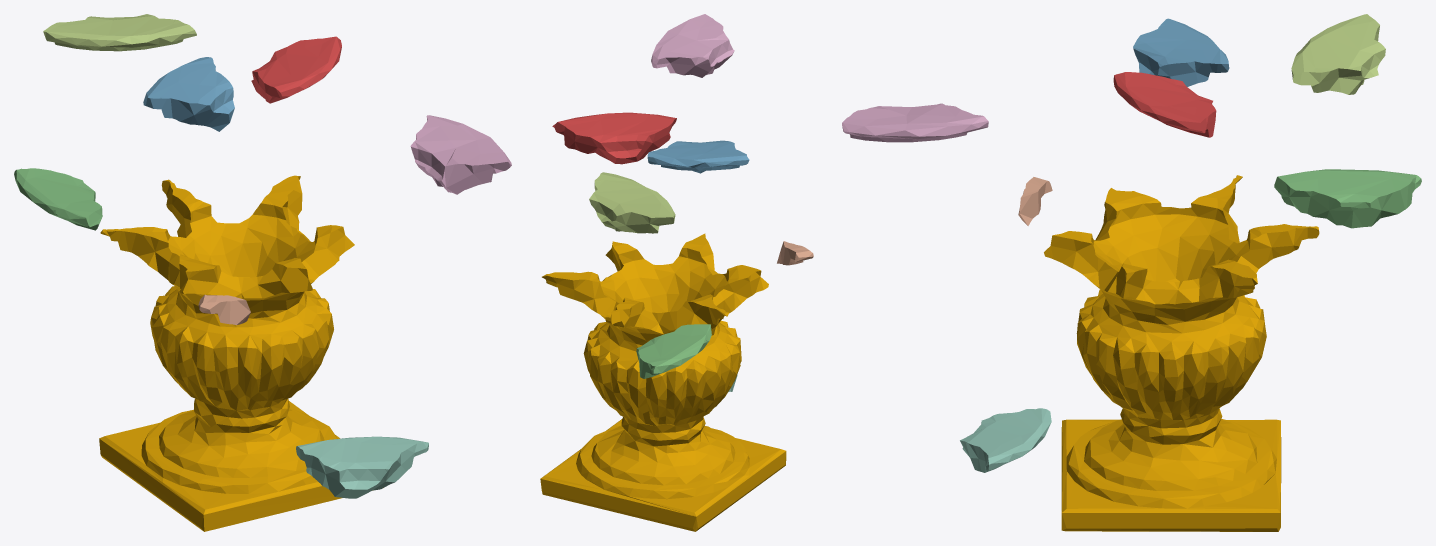
Rendered from mode_15_8pcs_transformed.glb.
3 views of the same model, side by side, from view 1: azimuth 30°, elevation 25°; view 2: azimuth 150°, elevation 25°; view 3: azimuth 270°, elevation 25° (orthographic). The views are drawn at different scales.
Parts seen in each view (by area): view 1: piece_0.obj, piece_4.obj, piece_6.obj, piece_2.obj, piece_5.obj, piece_1.obj, piece_3.obj, piece_7.obj; view 2: piece_0.obj, piece_1.obj, piece_5.obj, piece_6.obj, piece_3.obj, piece_2.obj, piece_7.obj; view 3: piece_0.obj, piece_3.obj, piece_5.obj, piece_6.obj, piece_2.obj, piece_1.obj, piece_4.obj, piece_7.obj.
Part boxes in pixels (<box>): piece_0.obj: <box>99,175,354,531</box>; piece_4.obj: <box>296,436,428,498</box>; piece_6.obj: <box>410,115,511,194</box>; piece_2.obj: <box>143,57,234,131</box>; piece_5.obj: <box>43,14,196,51</box>; piece_1.obj: <box>251,36,341,103</box>; piece_3.obj: <box>14,168,102,230</box>; piece_7.obj: <box>198,294,250,325</box>; piece_0.obj: <box>540,233,786,531</box>; piece_1.obj: <box>552,112,676,164</box>; piece_5.obj: <box>589,172,675,233</box>; piece_6.obj: <box>651,14,734,77</box>; piece_3.obj: <box>636,324,711,378</box>; piece_2.obj: <box>647,140,749,173</box>; piece_7.obj: <box>777,241,813,265</box>; piece_0.obj: <box>1044,175,1319,531</box>; piece_3.obj: <box>1274,169,1421,228</box>; piece_5.obj: <box>1291,14,1385,94</box>; piece_6.obj: <box>842,103,988,142</box>; piece_2.obj: <box>1133,18,1229,86</box>; piece_1.obj: <box>1113,72,1216,137</box>; piece_4.obj: <box>960,408,1051,472</box>; piece_7.obj: <box>1018,177,1052,225</box>.
Size of the model in its own units: 1 by 1.55 by 1.94.
